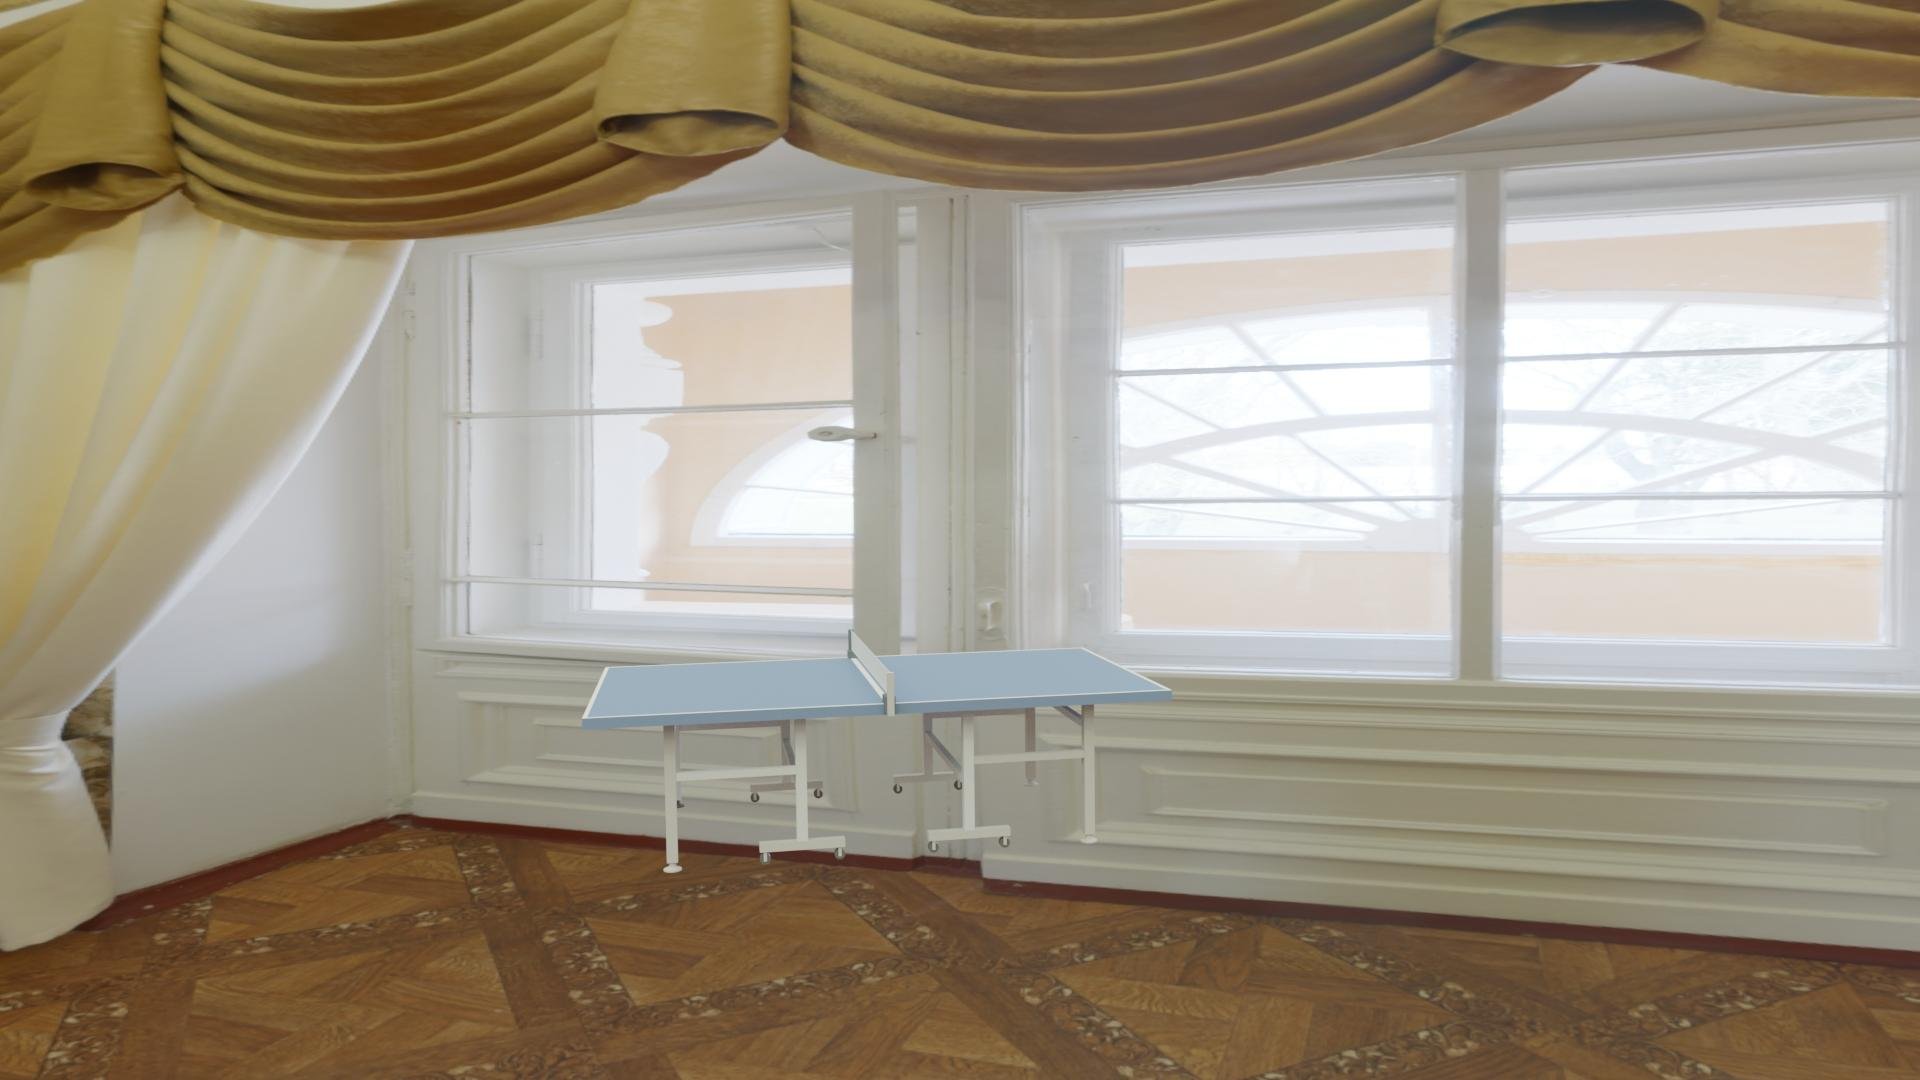table: (587, 649, 1167, 717)
